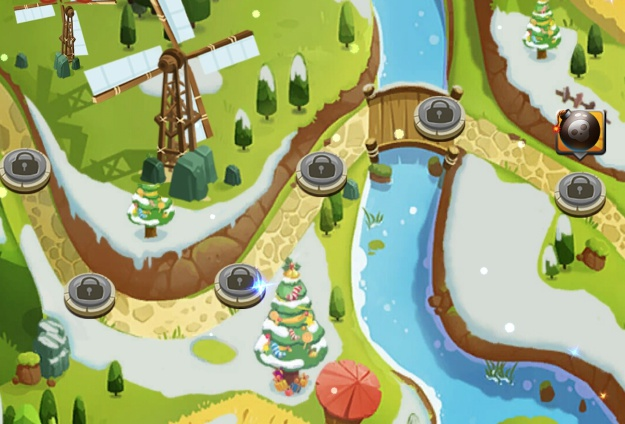ImgView: (1, 1, 624, 423)
